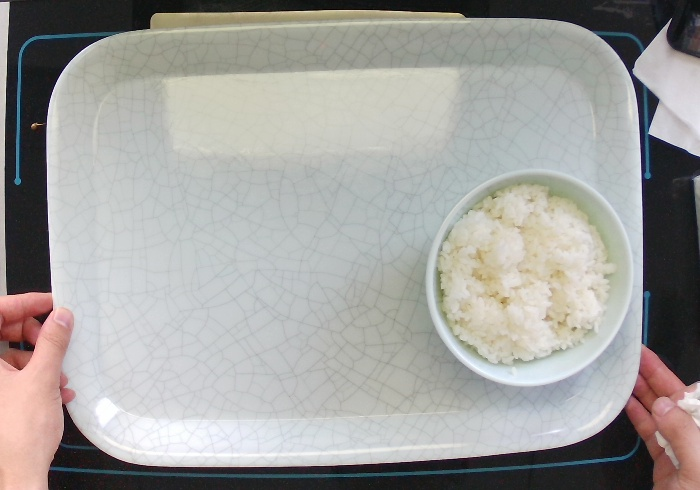JYsf-Fan_Wan: (423, 166, 636, 388)
